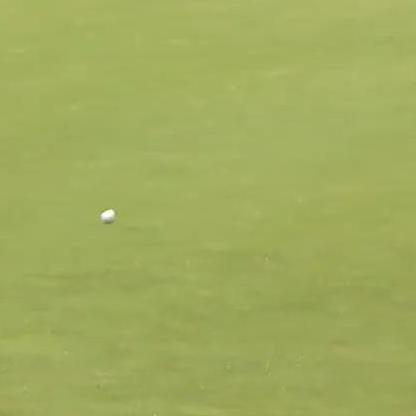golfball: (98, 206, 114, 223)
